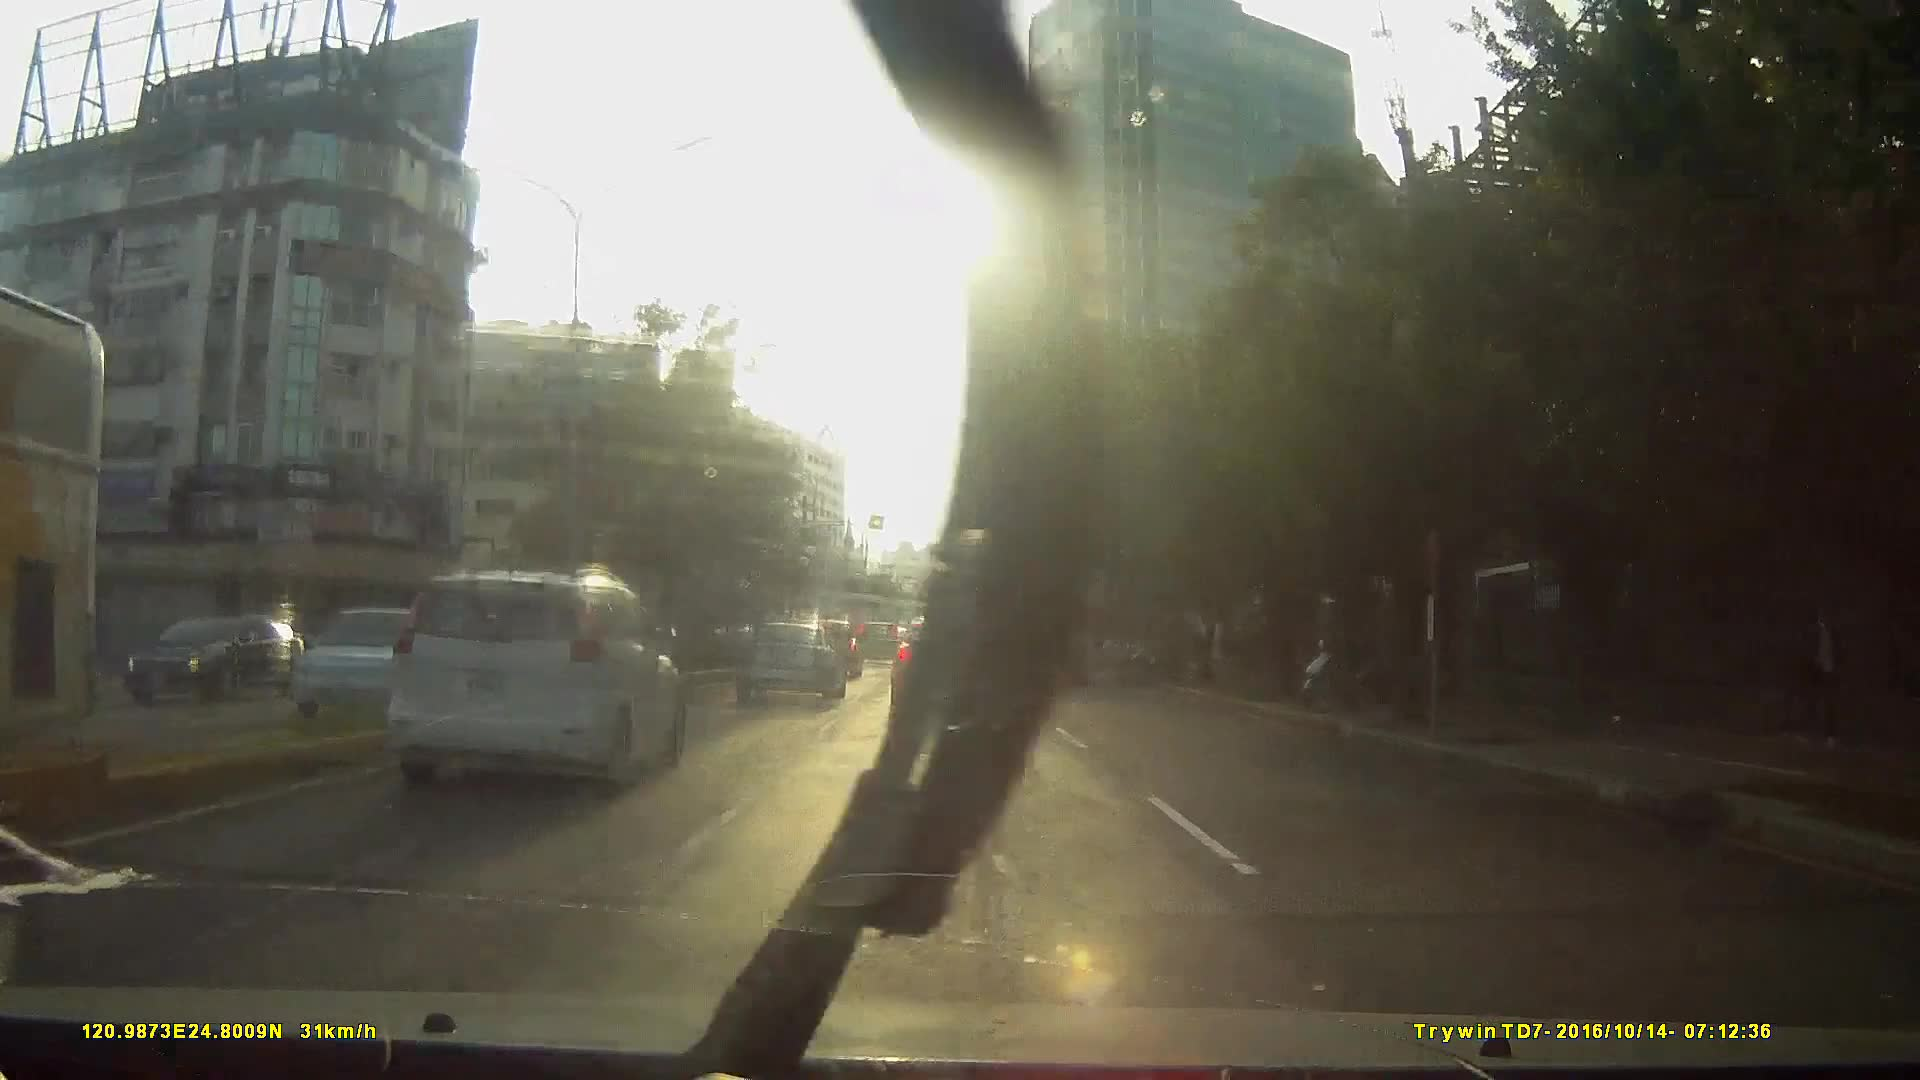pedestrian: (1780, 588, 1860, 755)
vehicle: (250, 556, 684, 868), (382, 561, 682, 789), (275, 599, 476, 727), (120, 611, 314, 706), (1001, 553, 1109, 683), (886, 610, 1002, 716), (730, 614, 842, 700), (852, 615, 901, 664)
